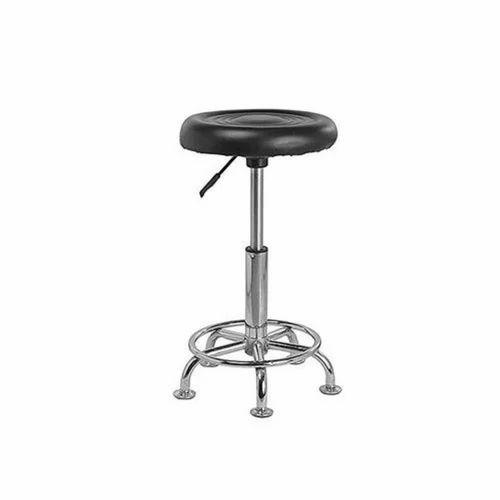stool: (172, 107, 342, 417)
